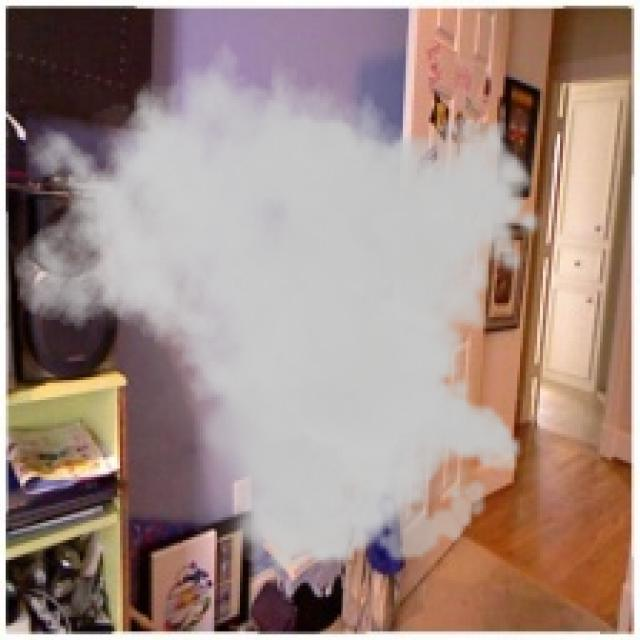Smoke: (11, 20, 546, 577)
